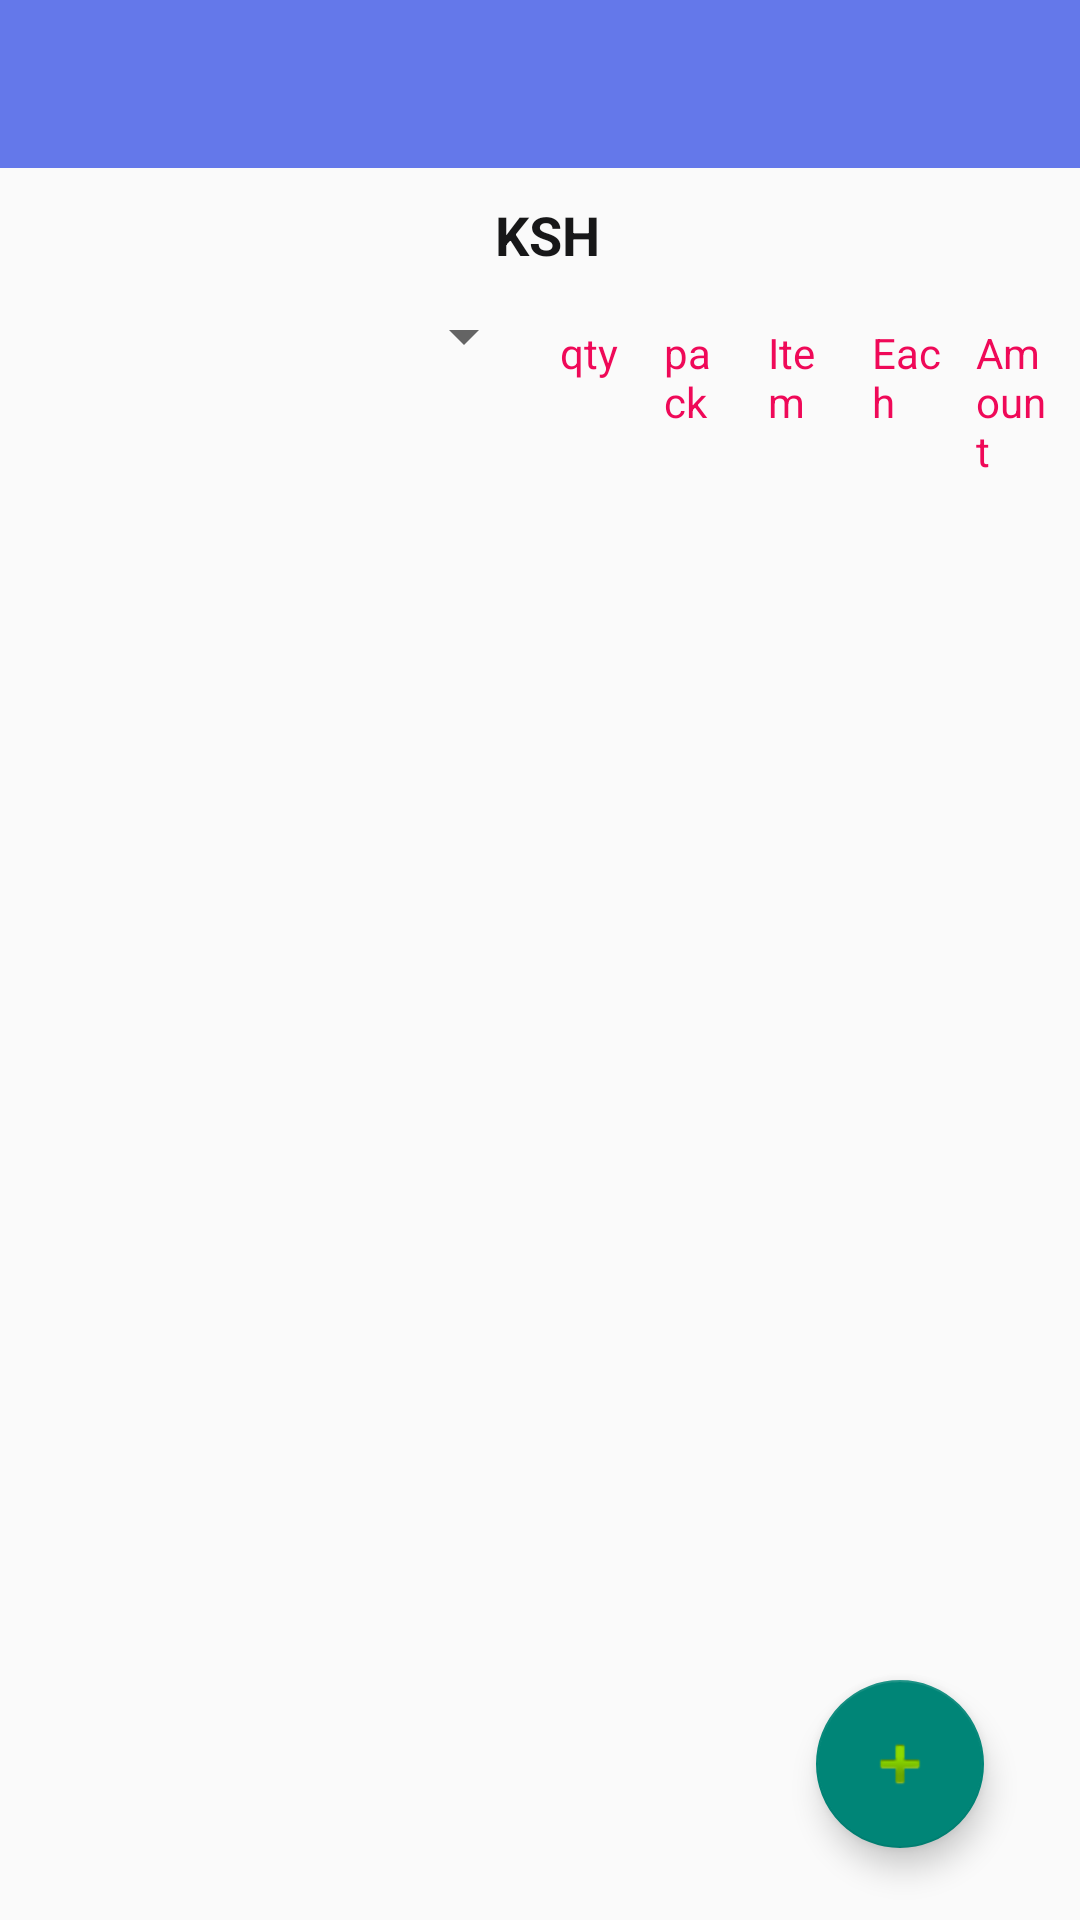

Point at icon controls on the screen. Image size 1080x1920, points as (x,y).
add: (900,1764)
